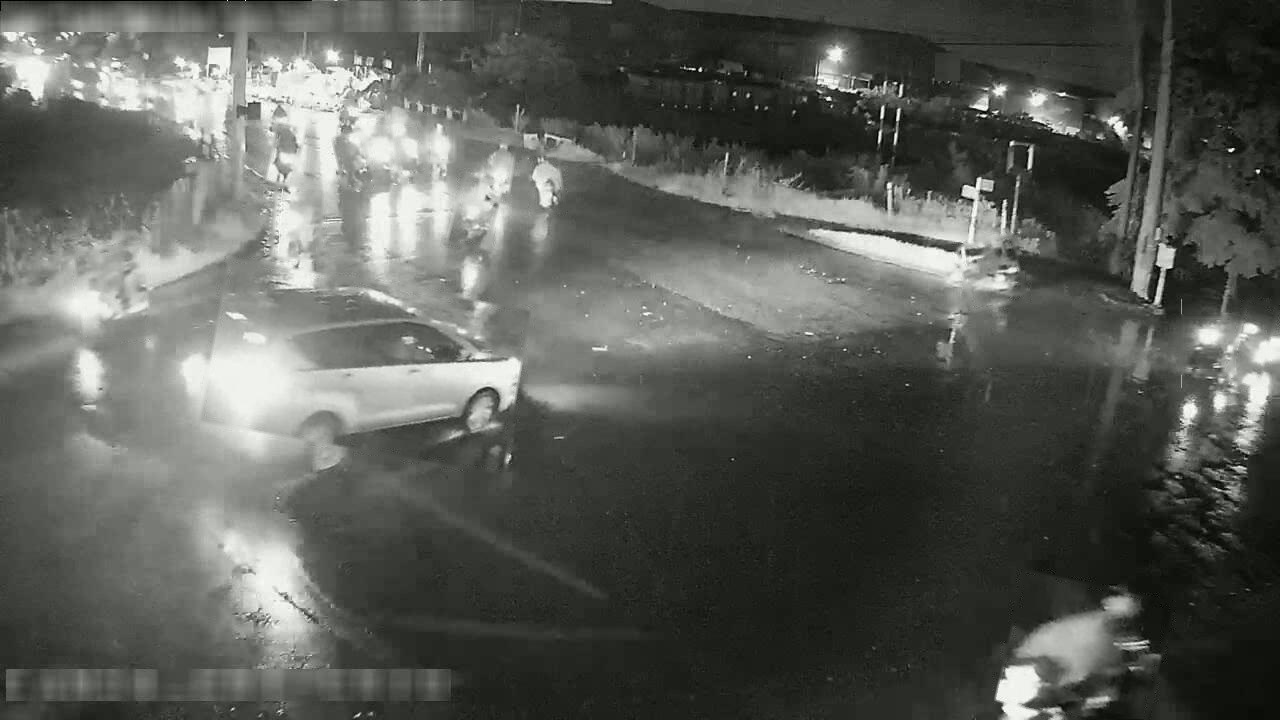Car: (138, 287, 522, 455), (994, 589, 1159, 719), (1187, 322, 1279, 378)
Motorcyclist: (78, 250, 148, 336), (957, 243, 1026, 305), (452, 178, 501, 247), (278, 192, 320, 259), (334, 131, 370, 192), (393, 121, 425, 177), (483, 143, 514, 200), (531, 154, 562, 210), (366, 131, 396, 185), (272, 124, 298, 186), (427, 122, 453, 175)
